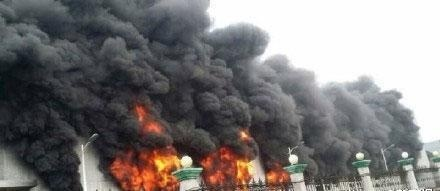fire: (107, 107, 181, 191), (201, 130, 255, 188), (264, 163, 288, 186)
